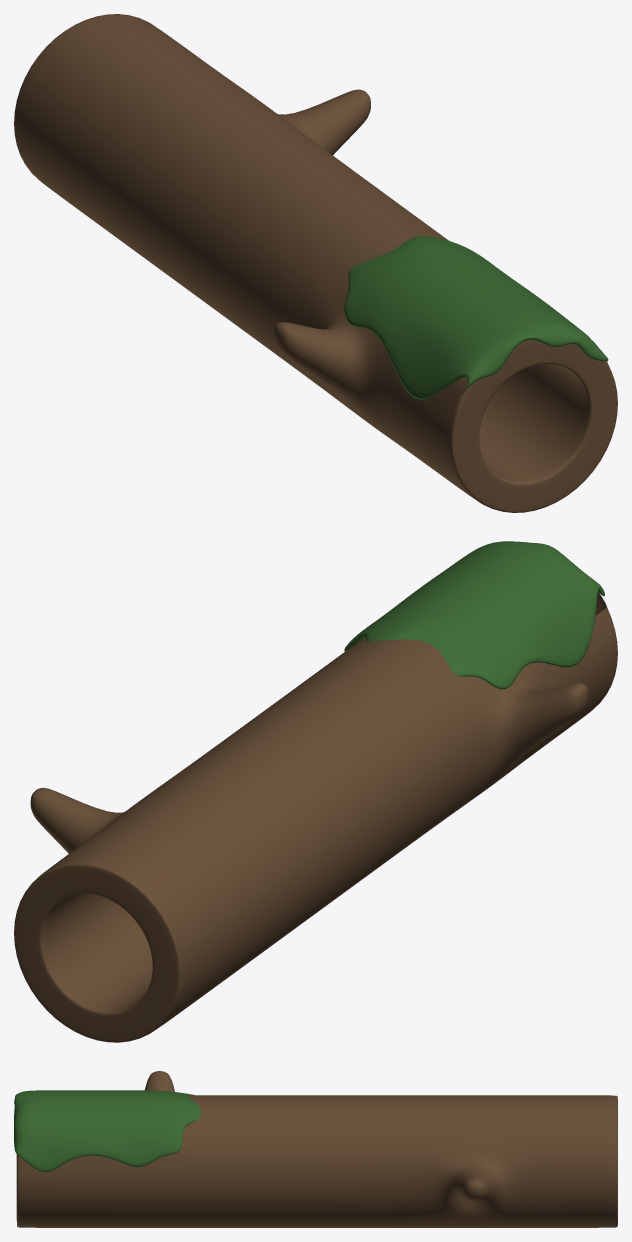
The model's file is TreeTrunk.glb.
3 views of the same model, one above another, from view 1: azimuth 30°, elevation 25°; view 2: azimuth 150°, elevation 25°; view 3: azimuth 270°, elevation 25° (orthographic). The views are drawn at different scales.
Parts seen in each view (by area): view 1: Cylinder, Cylinder.001; view 2: Cylinder, Cylinder.001; view 3: Cylinder, Cylinder.001.
Boxes of the visible parts, left/top/right/bottom form: Cylinder: left=14, top=14, right=617, bottom=512; Cylinder.001: left=344, top=235, right=608, bottom=399; Cylinder: left=14, top=592, right=617, bottom=1042; Cylinder.001: left=344, top=541, right=604, bottom=689; Cylinder: left=16, top=1071, right=617, bottom=1227; Cylinder.001: left=14, top=1090, right=201, bottom=1172.
Bounding box in the file's own units: 2.54 × 1.38 × 6.03.
